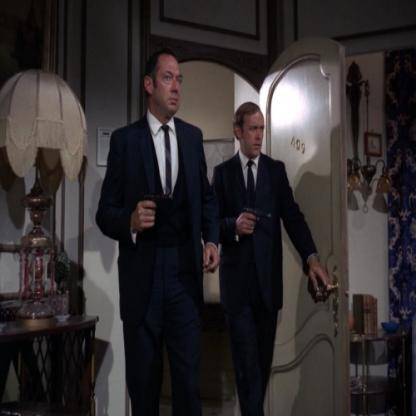Gun: (139, 190, 175, 232), (238, 202, 270, 232)
